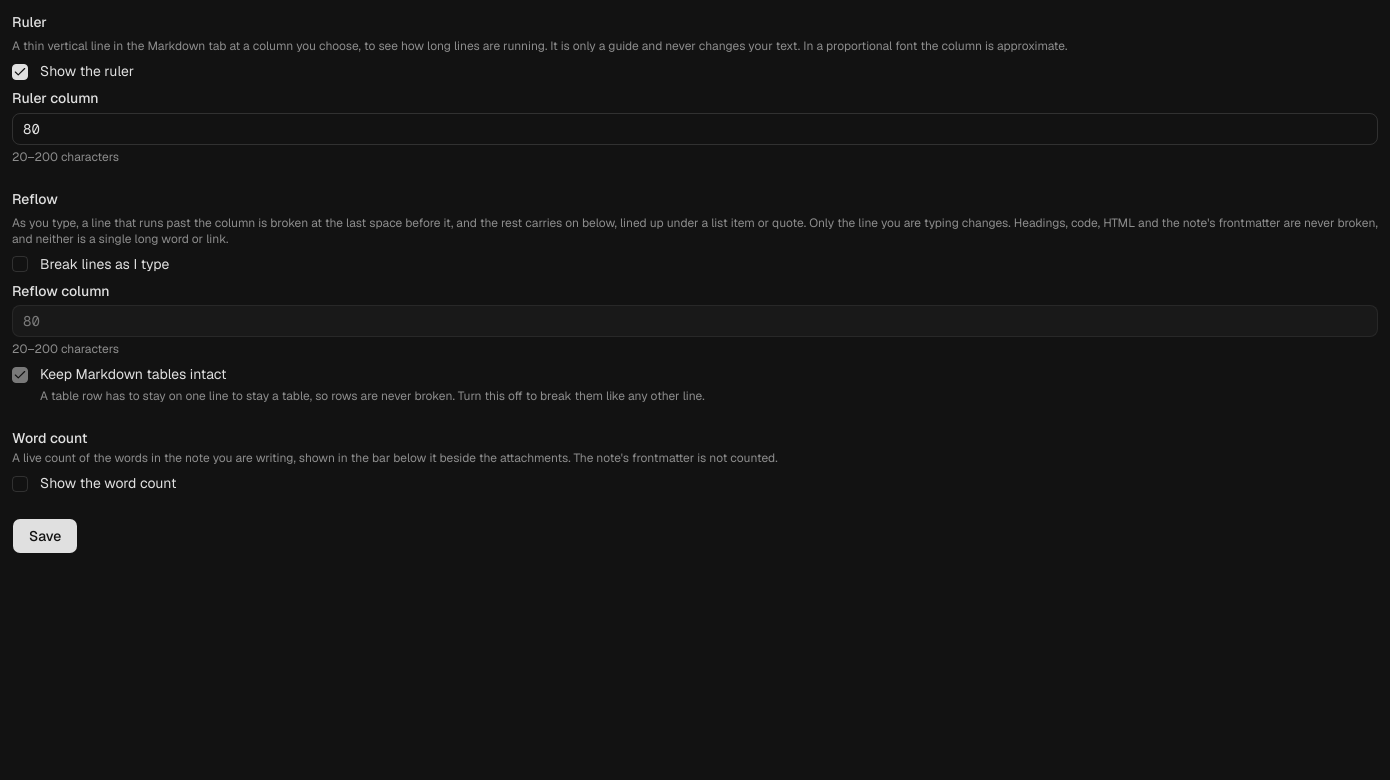
Test: writing settings › says what is wrong with a column instead of saving it
Replace the text in the field labelled "Ruler column" with "5" at (695, 128), box [12,112,1378,144]
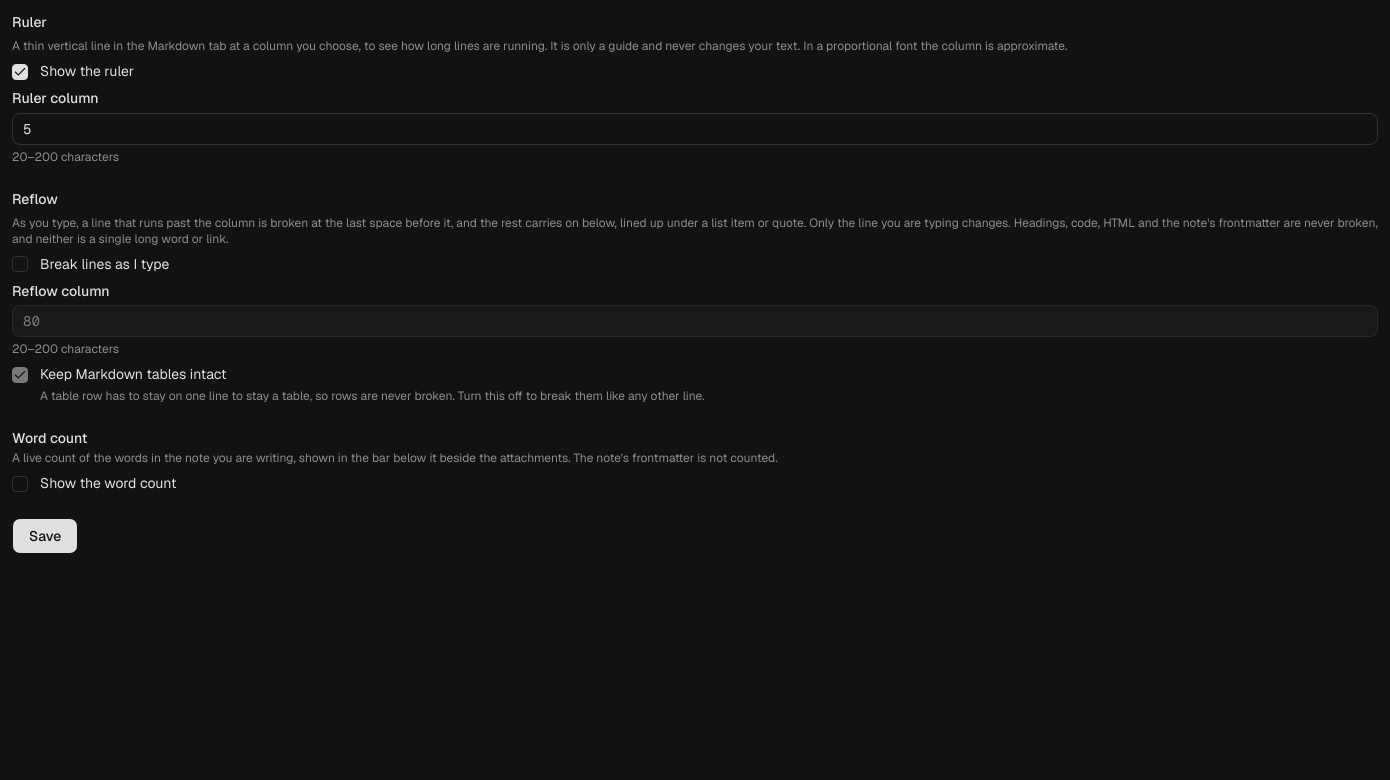
Click the button "Save" at (45, 536), box [12,518,78,554]
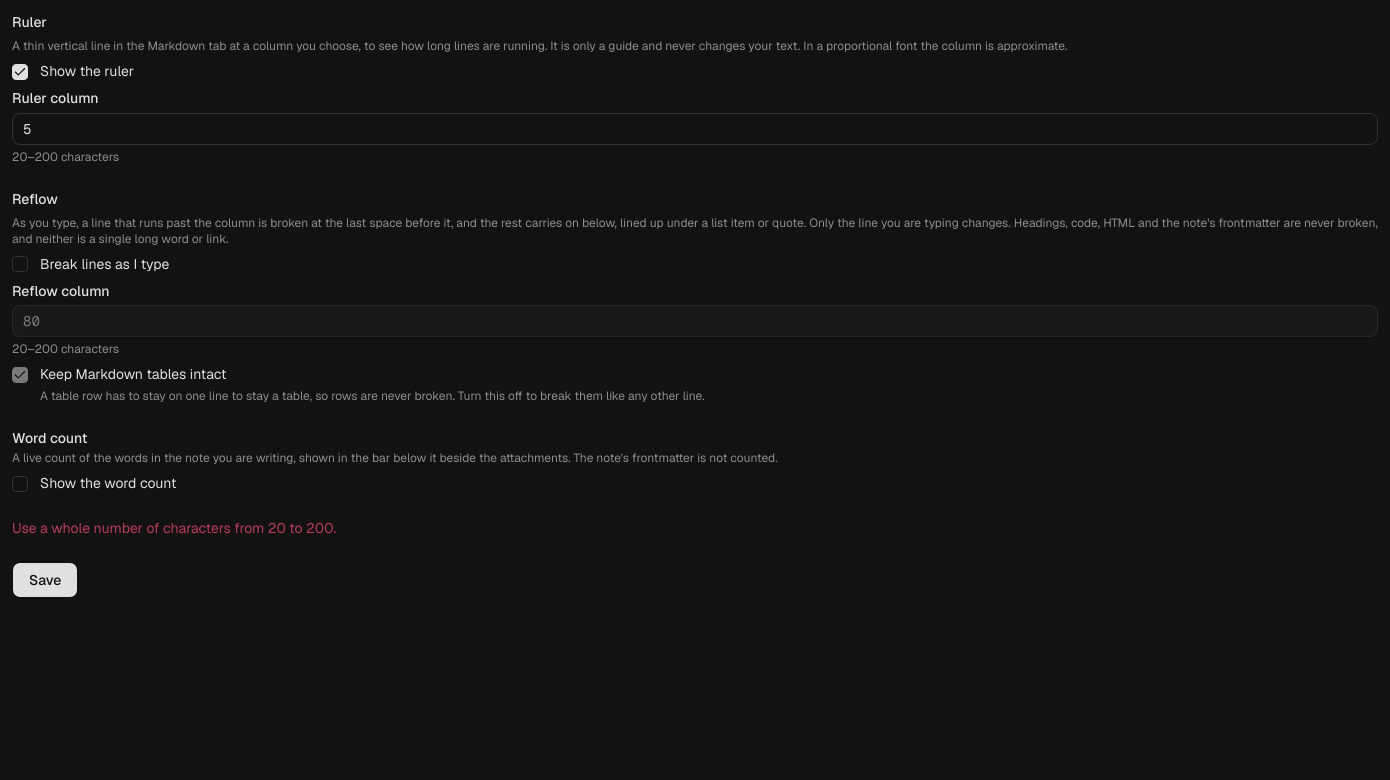
expect the text "Use a whole number of characters from 20 to 200." is shown: met, box [12,518,336,536]
